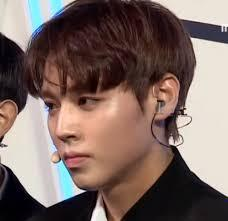earphone: (152, 94, 168, 114)
